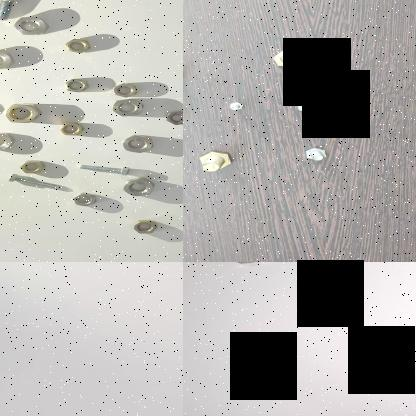Bolts: (194, 148, 239, 176), (4, 171, 58, 193), (75, 161, 133, 177), (266, 49, 308, 70), (290, 96, 322, 116), (302, 145, 332, 165), (0, 0, 24, 24), (226, 100, 246, 112)
NUTS: (1, 101, 43, 126), (11, 14, 53, 38), (116, 132, 158, 154), (109, 99, 144, 119), (122, 178, 156, 198), (130, 216, 160, 236), (72, 191, 98, 209), (15, 160, 48, 174), (109, 82, 137, 98), (56, 122, 85, 136), (163, 109, 183, 129), (0, 130, 18, 152), (0, 47, 14, 72), (226, 262, 260, 266)
